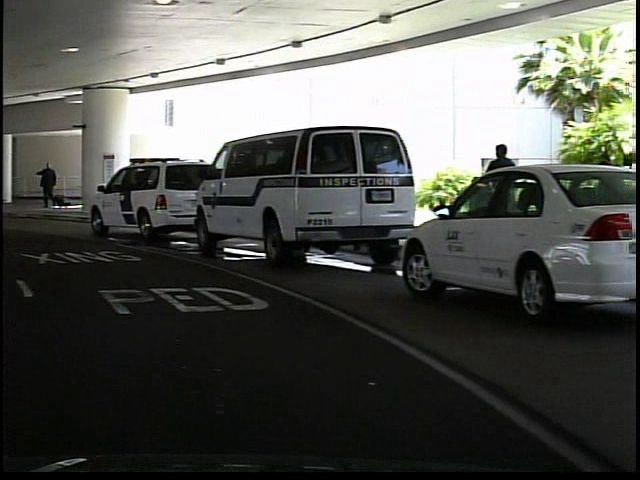person: (477, 139, 517, 257), (33, 156, 60, 216)
